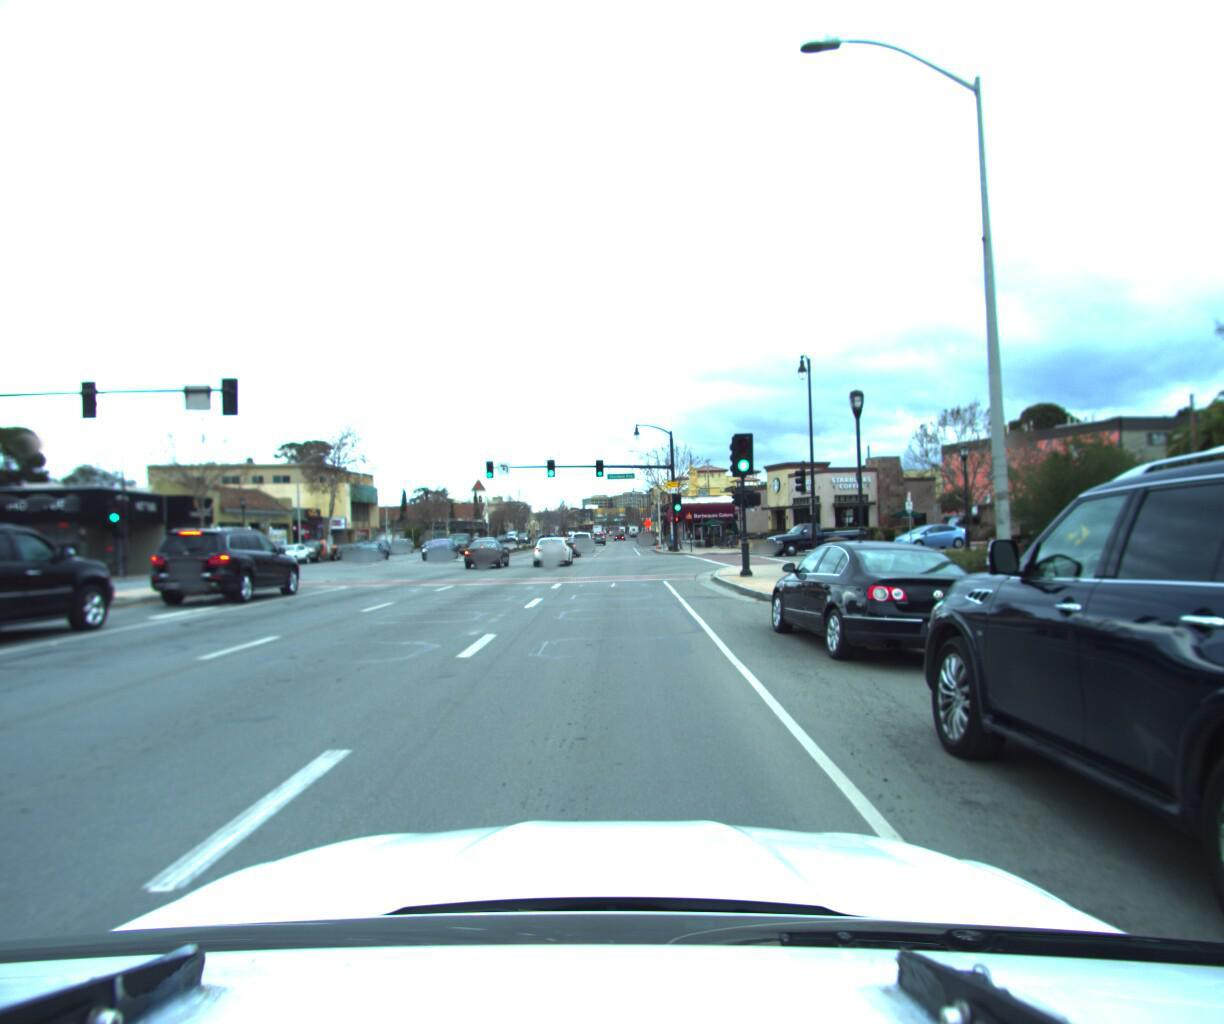bicycle: (714, 530, 739, 545)
car: (885, 333, 1224, 1024), (756, 532, 1009, 677), (0, 514, 132, 688), (146, 525, 307, 614), (758, 517, 864, 553), (882, 517, 968, 547), (462, 534, 512, 565), (289, 534, 341, 562), (528, 530, 570, 563), (266, 541, 312, 566), (422, 535, 461, 560), (350, 539, 389, 560), (566, 529, 594, 553), (572, 528, 595, 547)
